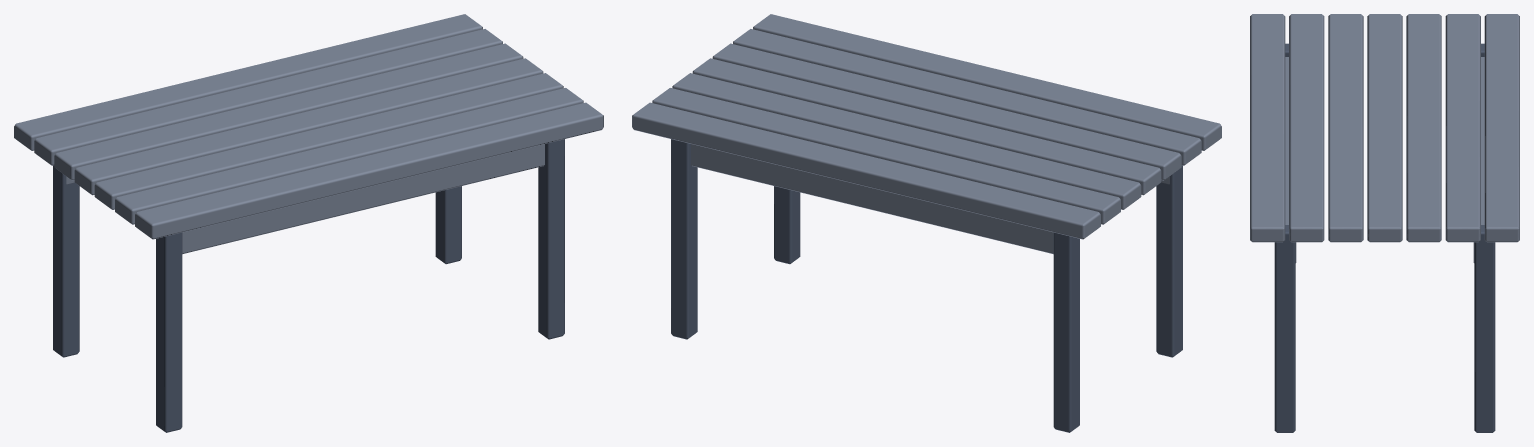
The model's file is garden-table-lite.glb.
The picture shows the model from 3 angles, left to right: view 1: azimuth 30°, elevation 25°; view 2: azimuth 150°, elevation 25°; view 3: azimuth 270°, elevation 25°; orthographic projection. The views are drawn at different scales.
Visible parts, largest first — view 1: garden-table; view 2: garden-table; view 3: garden-table.
Part boxes in pixels (x1,y1,x2,y2): garden-table: [14, 14, 603, 432]; garden-table: [632, 14, 1221, 432]; garden-table: [1250, 14, 1519, 432].
Size of the model in its own units: 1.6 by 0.76 by 0.85.
